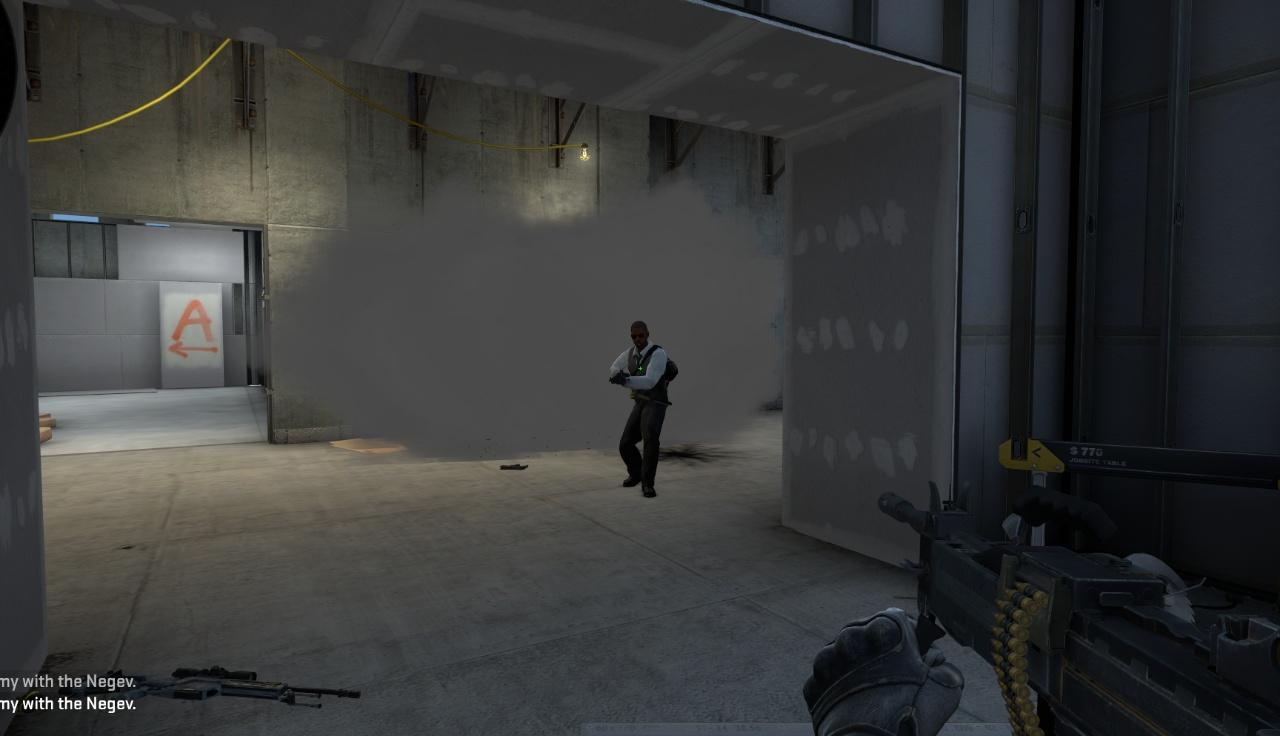rifle: (879, 479, 1280, 736)
tt: (611, 320, 673, 496)
tthead: (630, 321, 649, 348)
